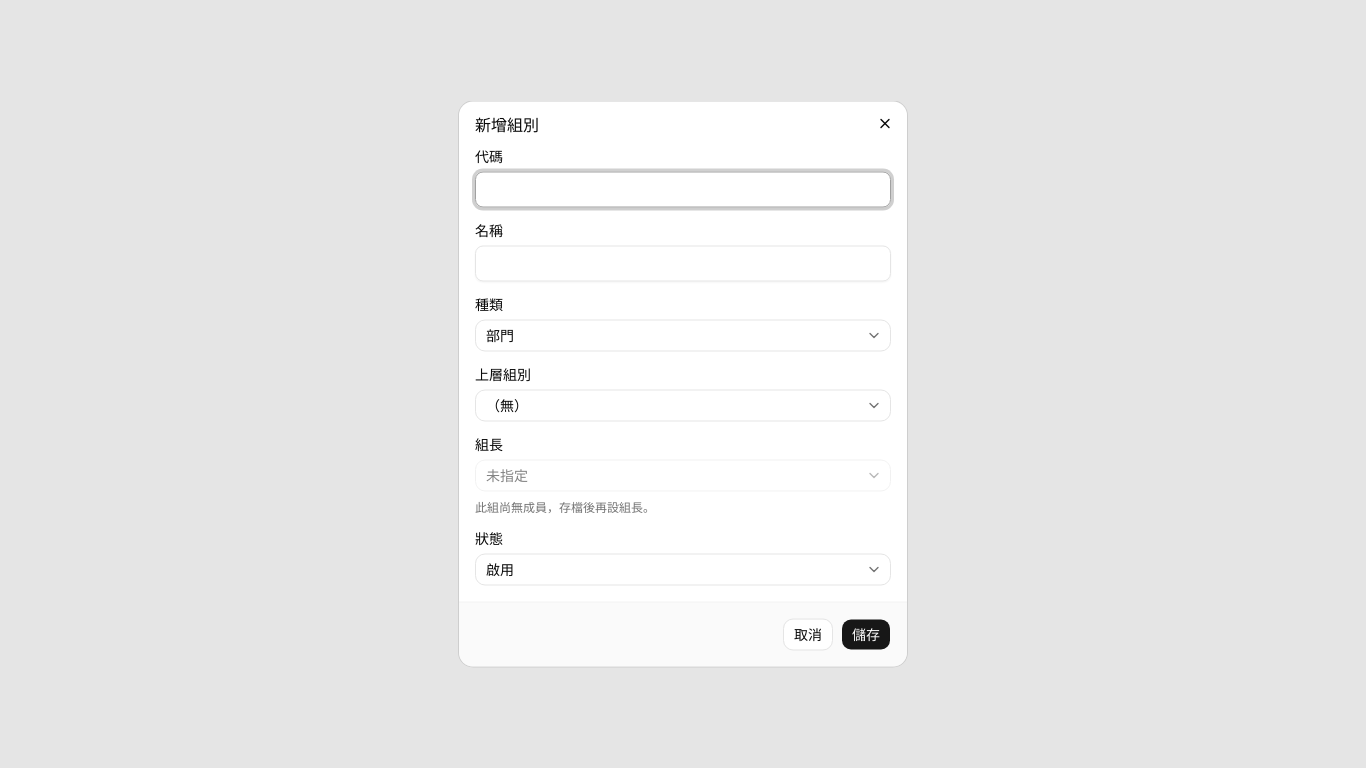
Test: GroupForm 組別表單 › 輸入重複代碼（與 seed 的 CEO 相同）顯示「組別代碼已存在」
Expected: the dialog is shown, [459,102,907,666]
Type "CEO" into the field labelled "代碼" at (683,190), box [475,172,891,208]
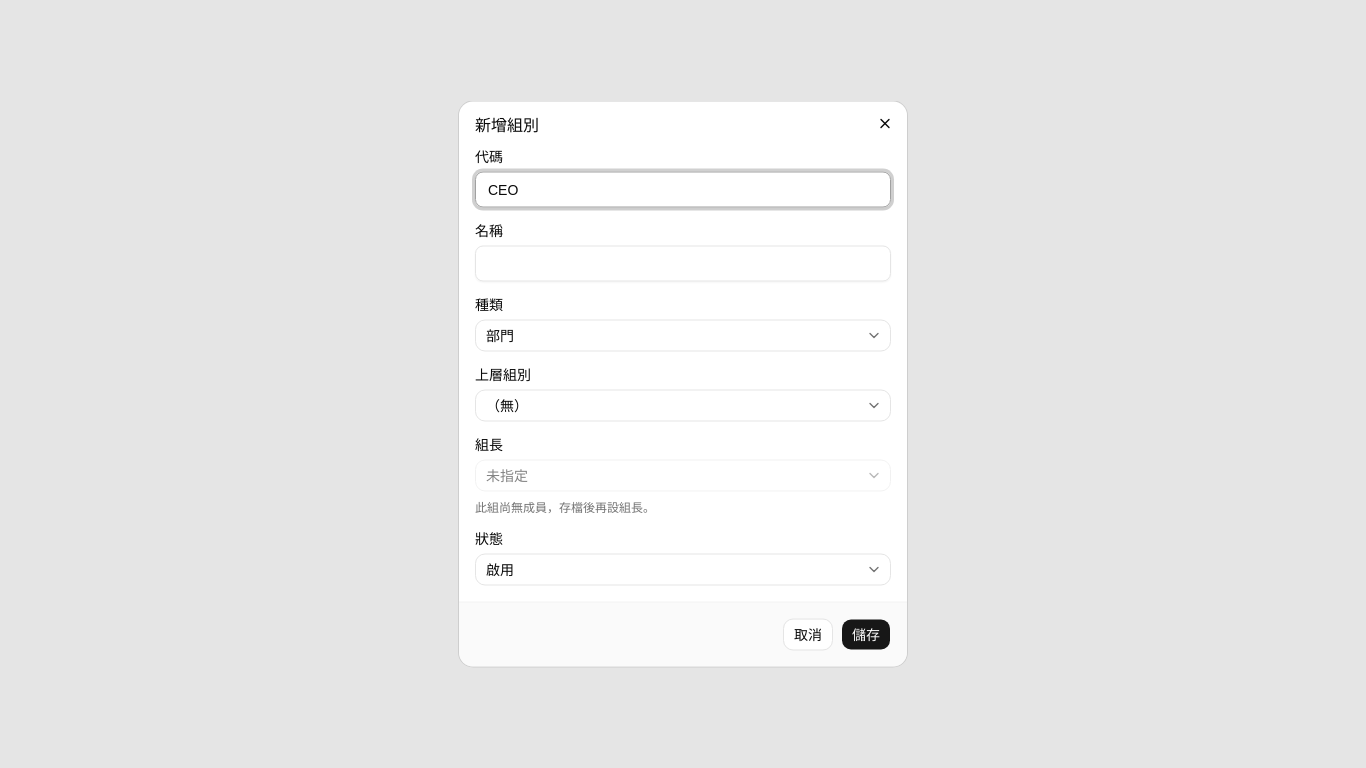
Type "重複部門" into the field labelled "名稱" at (683,264), box [475,246,891,282]
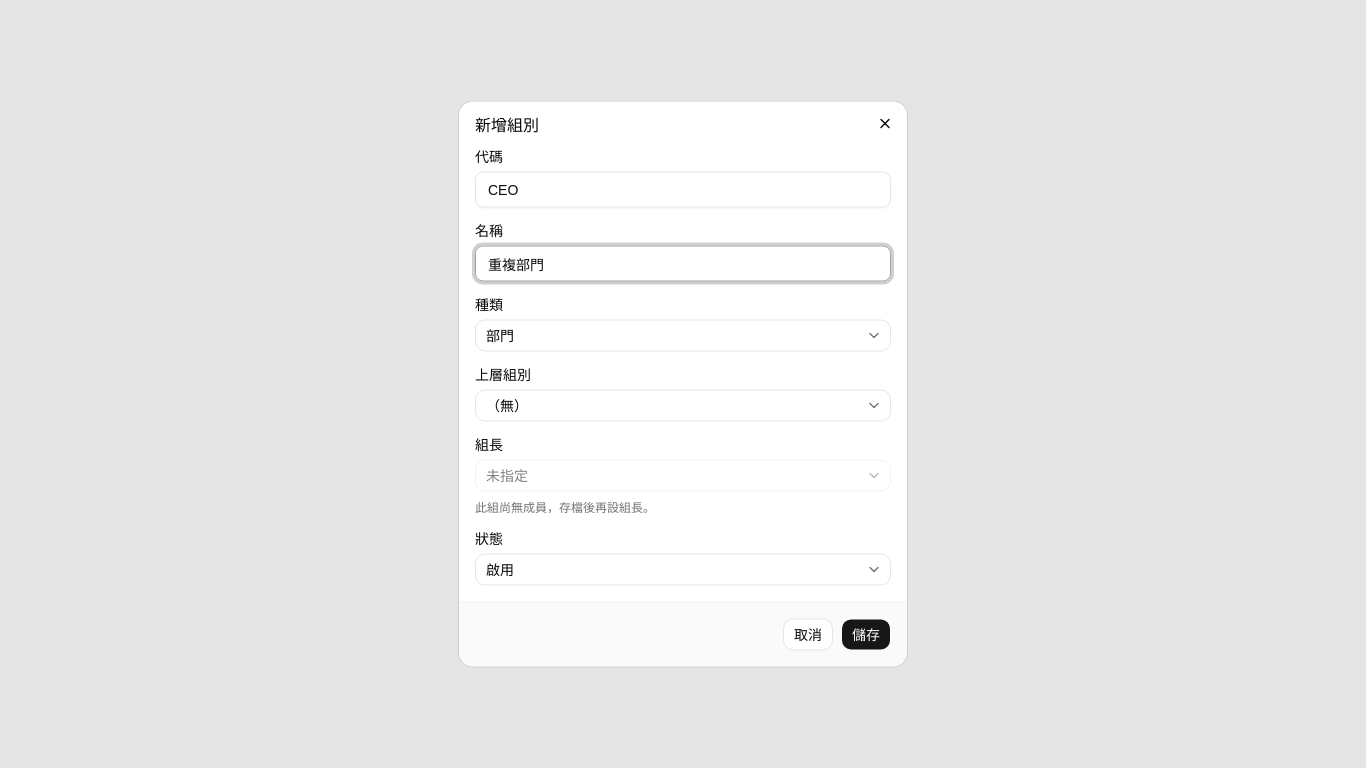
Click the button "儲存" at (866,634), box [841,618,891,650]
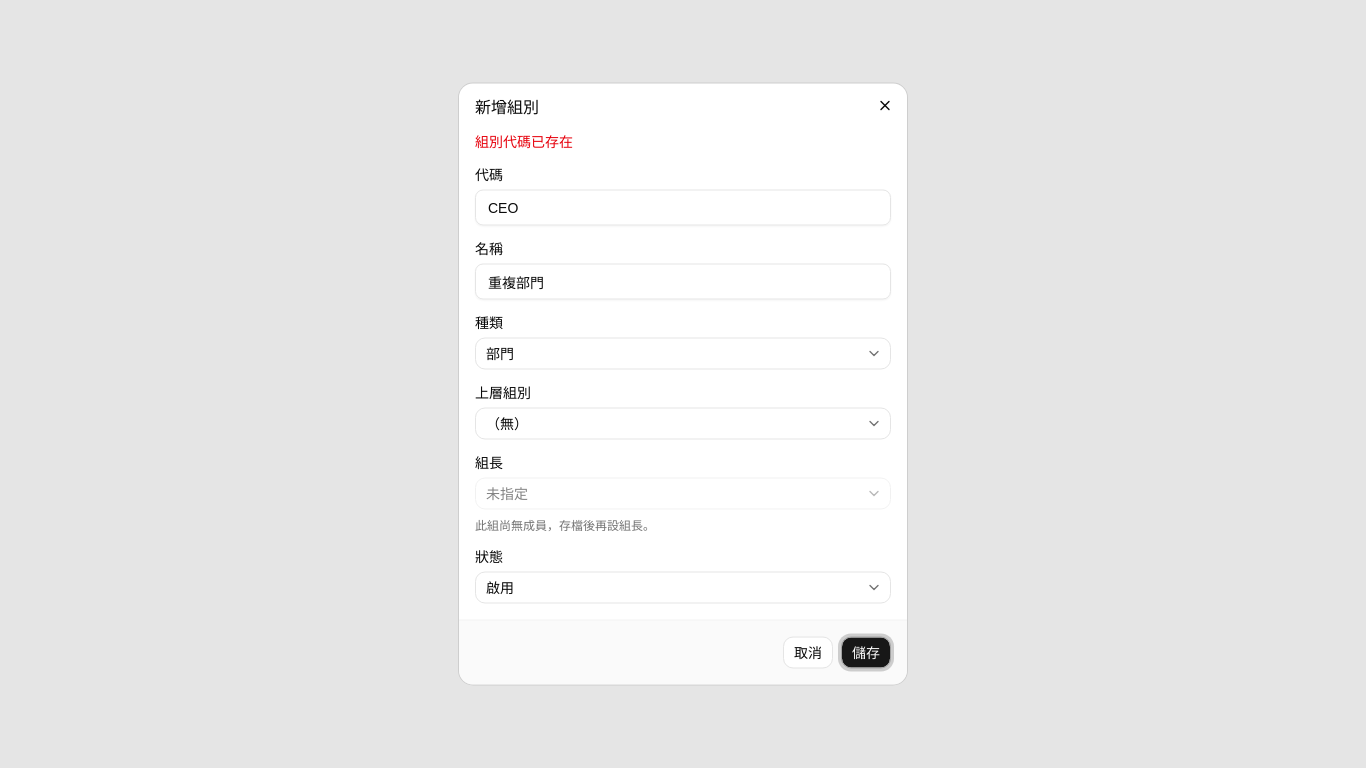
Expected: the text "組別代碼已存在" is shown, [475,134,573,150]
